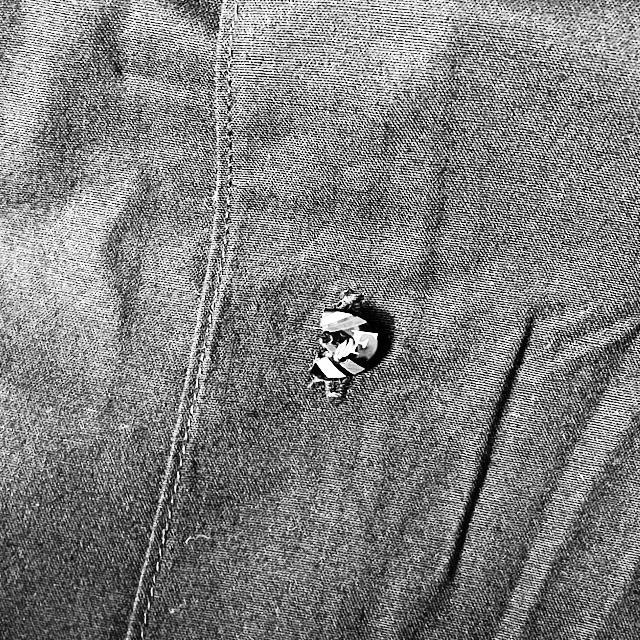Broken_button: (305, 303, 392, 390)
